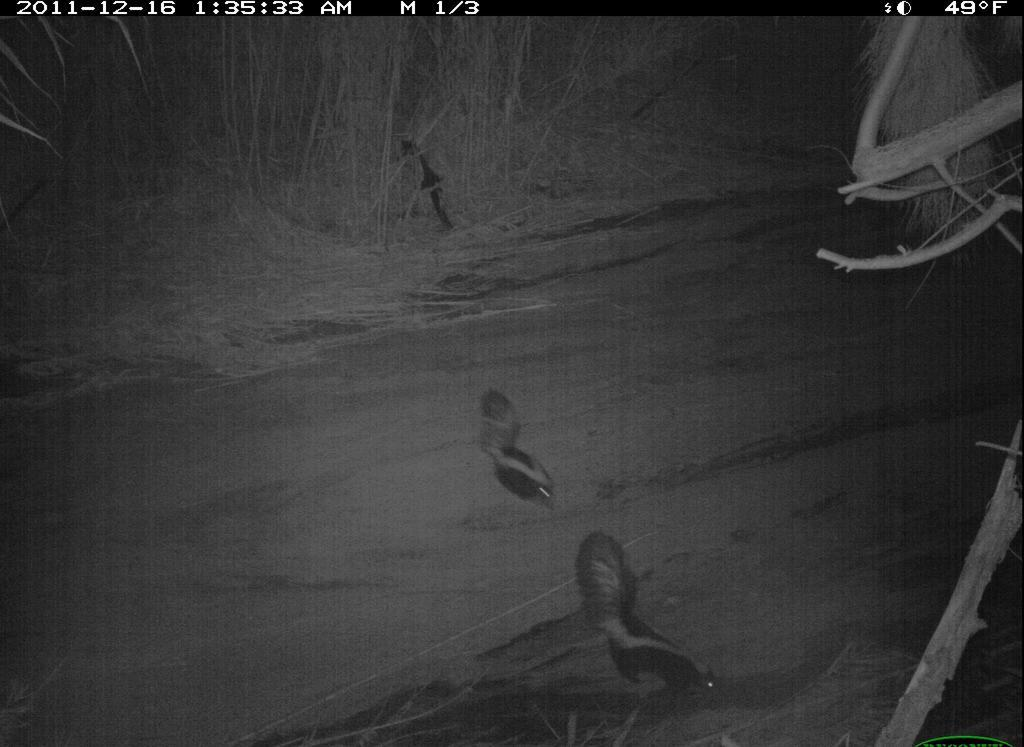skunk: (571, 528, 730, 705), (469, 382, 565, 514)
